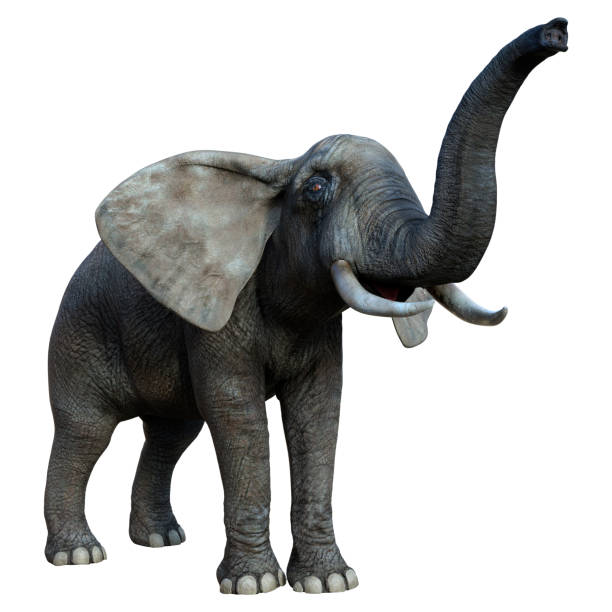africanelephant: (235, 114, 515, 353)
